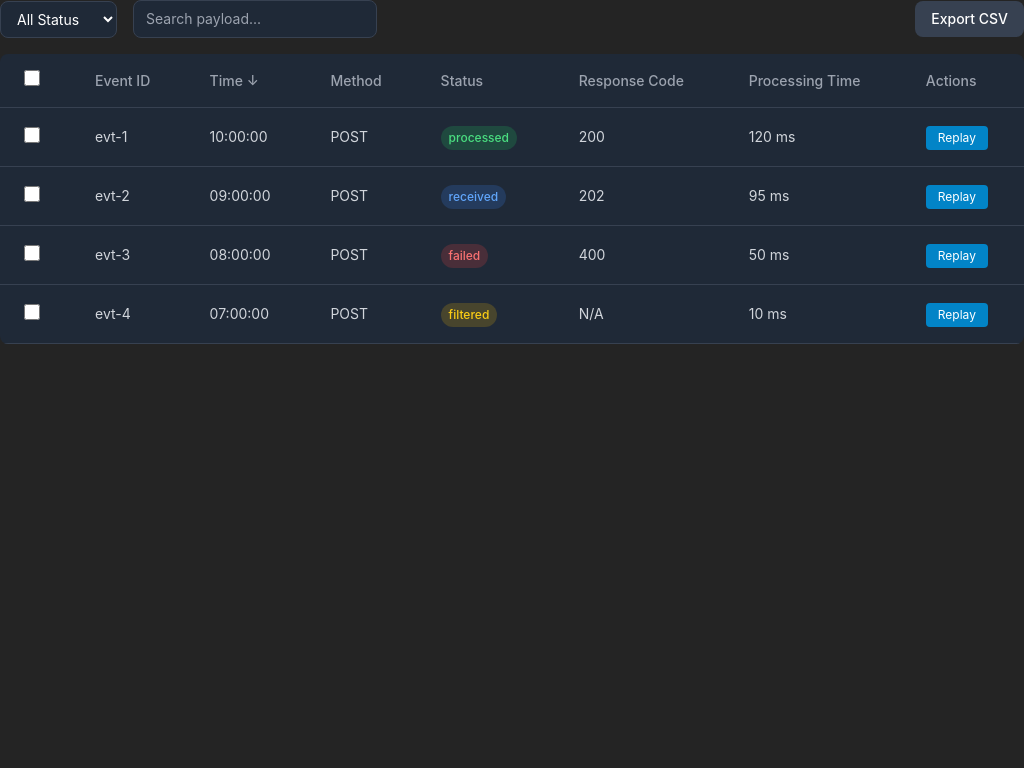
Test: WebhookEventHistory › Event Detail Modal › should open modal when clicking on an event row
The width and height of the screenshot is (1024, 768).
Note: Click on the event ID cell which has the onClick handler
Click the text "evt-1": (128,137) [71, 108, 186, 166]
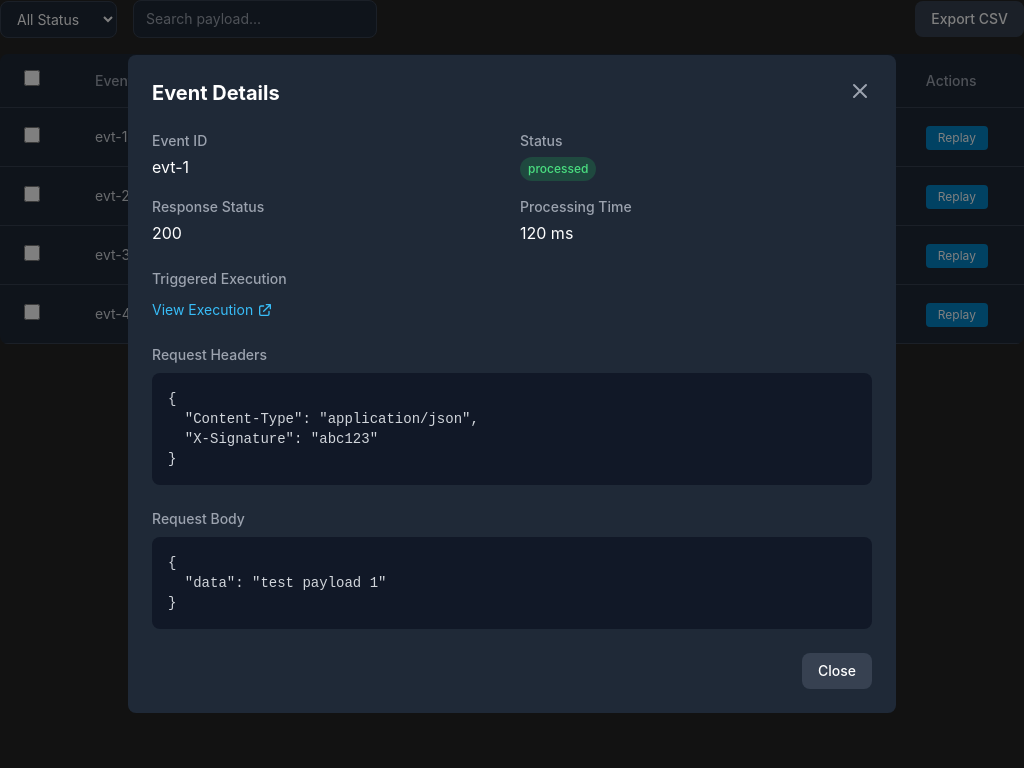
Expected: the dialog is shown
Expected: the heading "Event Details" is shown, [152, 79, 280, 107]
